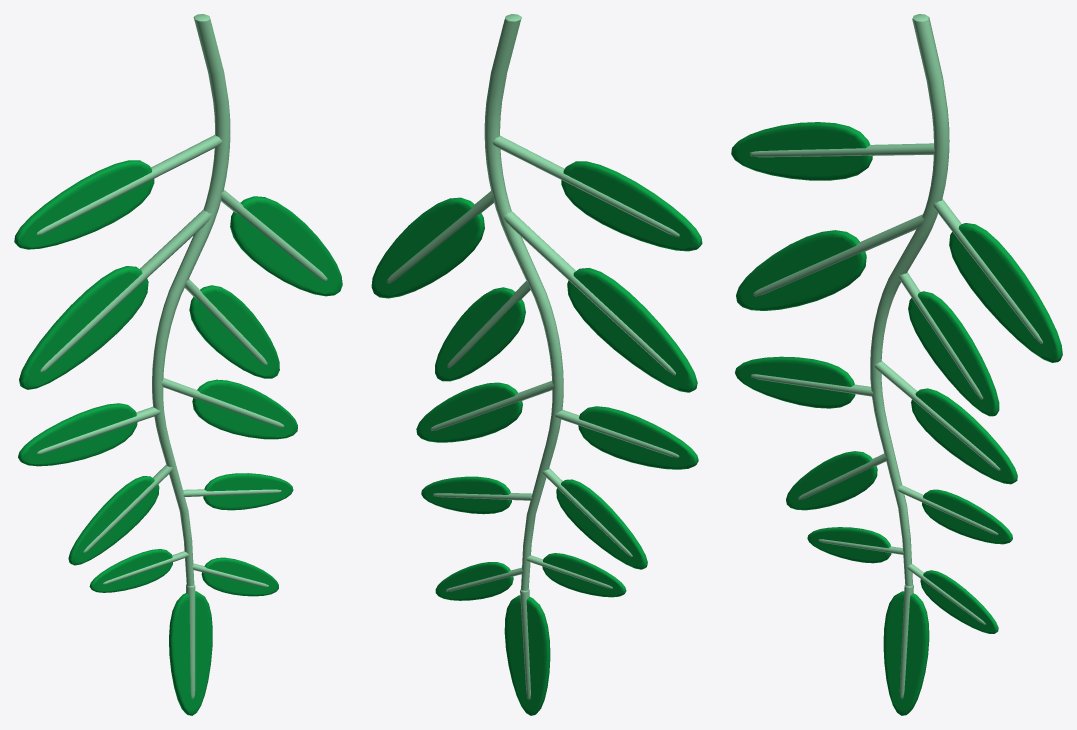
The model's file is Town_17_Liana_3.glb.
The picture shows the model from 3 angles, left to right: view 1: azimuth 30°, elevation 25°; view 2: azimuth 150°, elevation 25°; view 3: azimuth 330°, elevation 25°; orthographic projection.
Visible parts, largest first — view 1: Town_17_Liana_3; view 2: Town_17_Liana_3; view 3: Town_17_Liana_3.
Boxes of the visible parts, bbox=[...] form: Town_17_Liana_3: bbox=[14, 14, 342, 715]; Town_17_Liana_3: bbox=[371, 14, 702, 715]; Town_17_Liana_3: bbox=[731, 14, 1062, 715].
Bounding box in the file's own units: 1.22 × 2.48 × 0.0649.
Materials: 1 (1 with a texture image).
